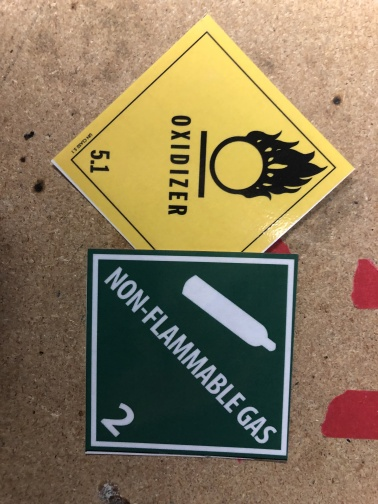NonFlammableGas: (85, 248, 300, 461)
Oxidizer: (52, 16, 356, 256)
